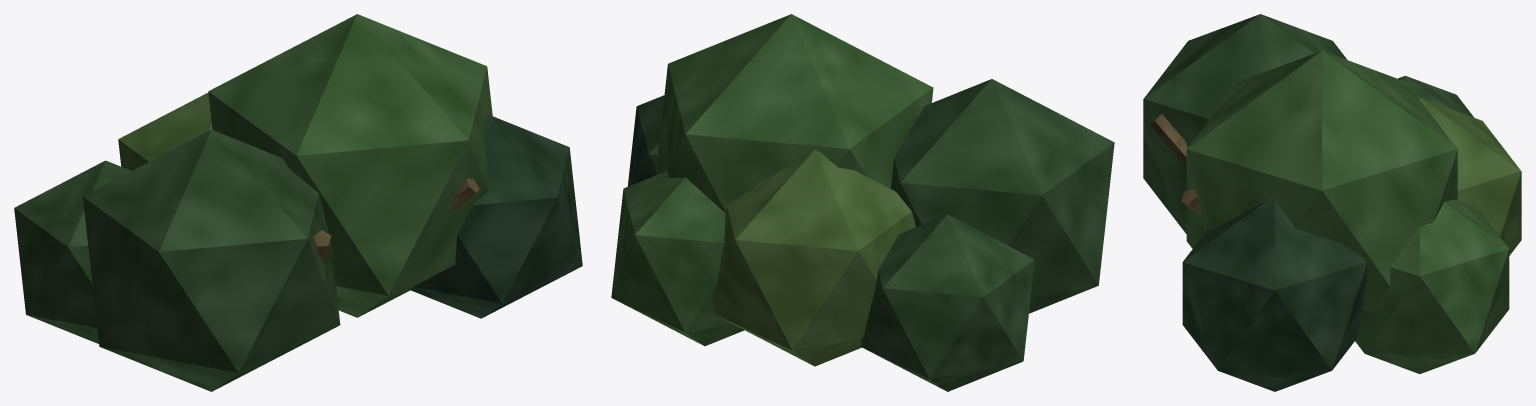
The model's file is MR_ScrubCluster.fbx.
3 views of the same model, side by side, from view 1: azimuth 30°, elevation 25°; view 2: azimuth 150°, elevation 25°; view 3: azimuth 270°, elevation 25° (orthographic). The views are drawn at different scales.
Visible parts, largest first — view 1: MR_ScrubCluster; view 2: MR_ScrubCluster; view 3: MR_ScrubCluster.
Part boxes in pixels (x1=…): MR_ScrubCluster: x1=14, y1=14, x2=582, y2=391; MR_ScrubCluster: x1=611, y1=14, x2=1114, y2=391; MR_ScrubCluster: x1=1143, y1=14, x2=1521, y2=391.
Size of the model in its own units: 1.45 by 0.93 by 1.04.
1 material, 1 textured.
